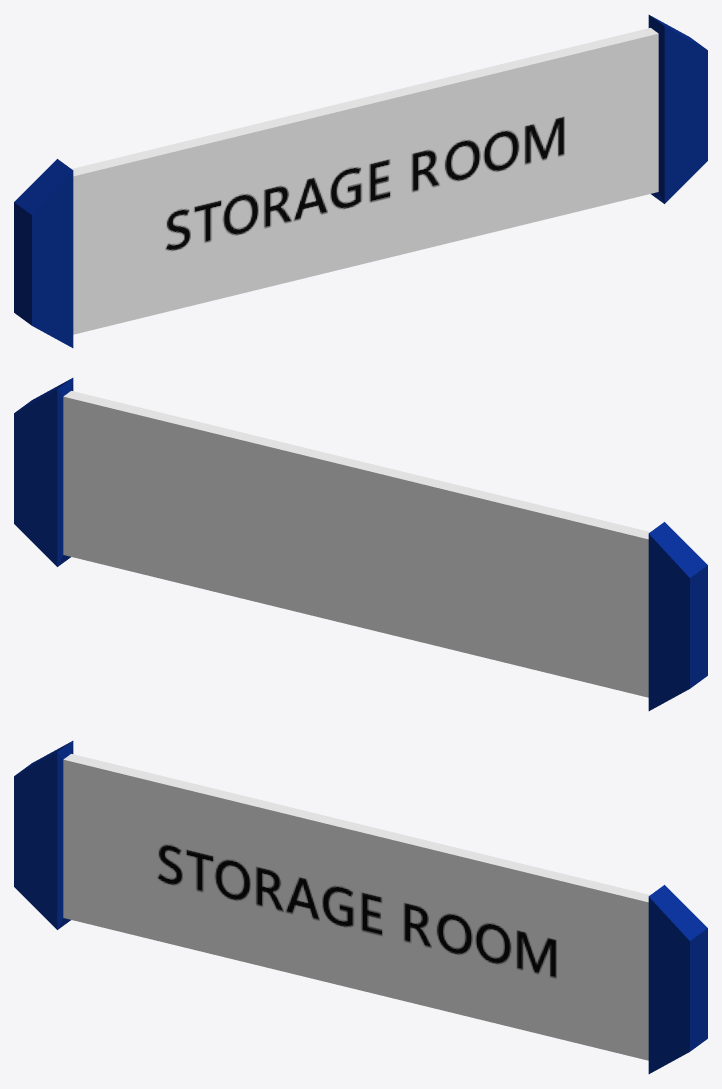
File: wallSign_storage.fbx
3 views of the same model, one above another, from view 1: azimuth 30°, elevation 25°; view 2: azimuth 150°, elevation 25°; view 3: azimuth 330°, elevation 25° (orthographic).
Visible parts, largest first — view 1: Cube; view 2: Cube; view 3: Cube.
Boxes of the visible parts, bbox=[...] form: Cube: bbox=[14, 15, 707, 347]; Cube: bbox=[14, 378, 707, 710]; Cube: bbox=[14, 741, 707, 1073].
Size of the model in its own units: 178 by 44.83 by 8.21.
